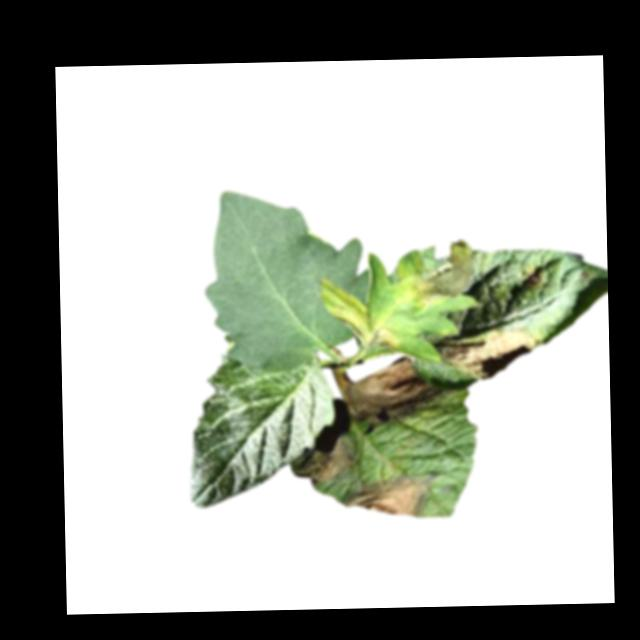Late_blight: (340, 355, 445, 425), (431, 328, 539, 386), (399, 239, 474, 309), (342, 471, 439, 518), (334, 292, 400, 352), (300, 436, 359, 484), (521, 266, 542, 286)
healthy: (200, 187, 371, 373), (182, 352, 335, 508)
